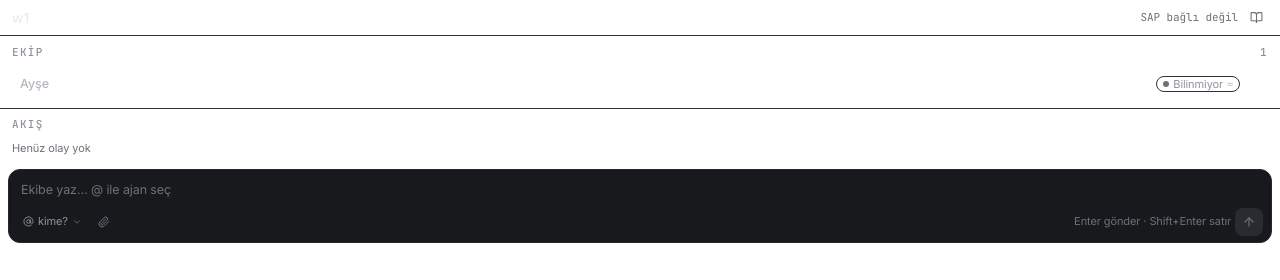
Test: Akış — mesaj kutusu › ret sebebi yazılıyor, metin duruyor, yeniden denenmiyor
Type "@ay" into the dropdown named "Ajana mesaj" at (640, 190), box [17,174,1263,208]
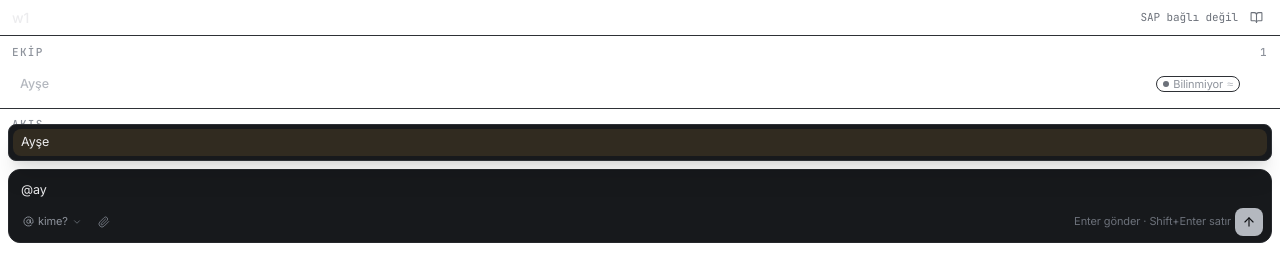
Press Enter in the dropdown named "Ajana mesaj", box [17,174,1263,208]
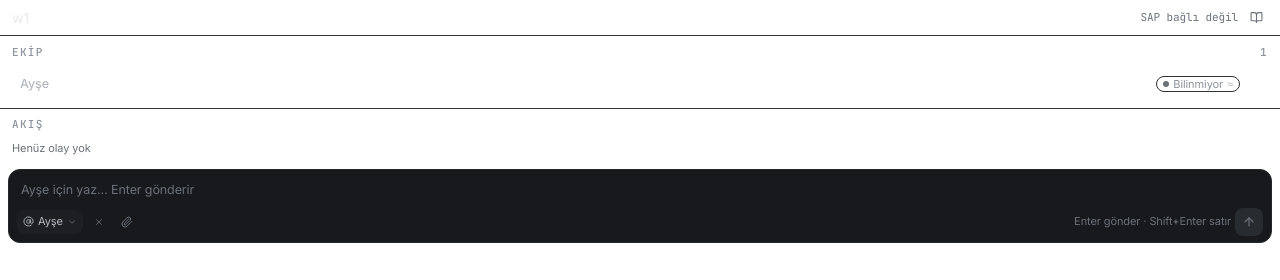
Type "derle" into the dropdown named "Ajana mesaj" at (640, 190), box [17,174,1263,208]
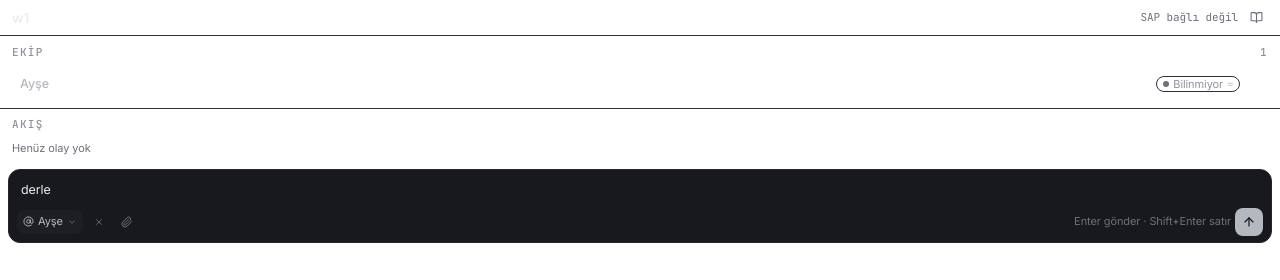
Click the button named "Gönder" at (1249, 222), box [1235,208,1263,236]
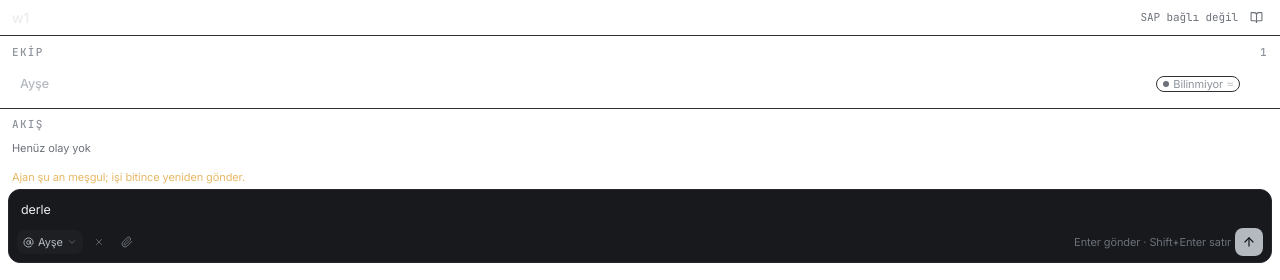
Now the message reads "Ajan şu an meşgul; işi bitince yeniden gönder.", box [12,170,245,184]
